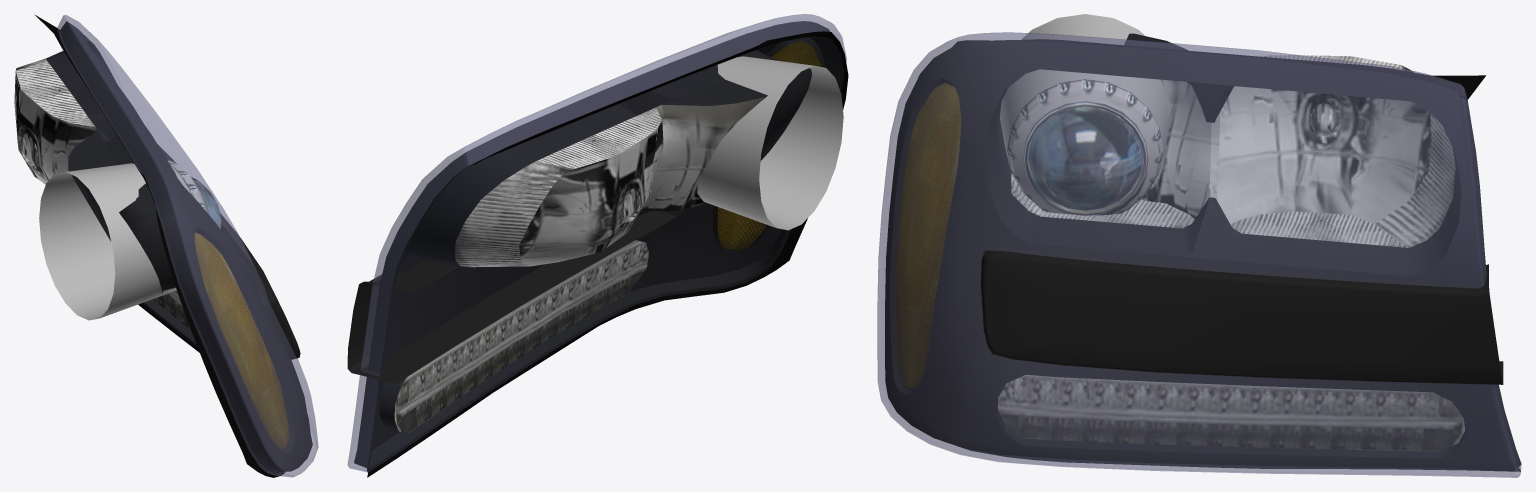
3 views of the same model, side by side, from view 1: azimuth 30°, elevation 25°; view 2: azimuth 150°, elevation 25°; view 3: azimuth 270°, elevation 25° (orthographic). The views are drawn at different scales.
Visible parts, largest first — view 1: U843_9A_061B_R_1_N_U843_9A_061B_R, U843_9A_061B_R_U843_9A_061B_R_3_DTaSI, U843_9A_061B_R_U843_9A_061B_R_4_D, U843_9A_061B_R_U843_9A_061B_R_2_D; view 2: U843_9A_061B_R_1_N_U843_9A_061B_R, U843_9A_061B_R_U843_9A_061B_R_3_DTaSI, U843_9A_061B_R_U843_9A_061B_R_2_D, U843_9A_061B_R_U843_9A_061B_R_4_D; view 3: U843_9A_061B_R_U843_9A_061B_R_3_DTaSI, U843_9A_061B_R_1_N_U843_9A_061B_R, U843_9A_061B_R_U843_9A_061B_R_2_D, U843_9A_061B_R_U843_9A_061B_R_4_D.
Boxes of the visible parts, bbox=[...] form: U843_9A_061B_R_1_N_U843_9A_061B_R: bbox=[14, 21, 312, 475]; U843_9A_061B_R_U843_9A_061B_R_3_DTaSI: bbox=[57, 15, 318, 477]; U843_9A_061B_R_U843_9A_061B_R_4_D: bbox=[34, 14, 284, 477]; U843_9A_061B_R_U843_9A_061B_R_2_D: bbox=[158, 145, 300, 359]; U843_9A_061B_R_1_N_U843_9A_061B_R: bbox=[354, 21, 844, 472]; U843_9A_061B_R_U843_9A_061B_R_3_DTaSI: bbox=[347, 14, 846, 472]; U843_9A_061B_R_U843_9A_061B_R_2_D: bbox=[347, 208, 686, 383]; U843_9A_061B_R_U843_9A_061B_R_4_D: bbox=[367, 31, 848, 477]; U843_9A_061B_R_U843_9A_061B_R_3_DTaSI: bbox=[877, 32, 1521, 477]; U843_9A_061B_R_1_N_U843_9A_061B_R: bbox=[885, 14, 1521, 471]; U843_9A_061B_R_U843_9A_061B_R_2_D: bbox=[980, 246, 1503, 384]; U843_9A_061B_R_U843_9A_061B_R_4_D: bbox=[952, 39, 1520, 471].
Bounding box in the file's own units: 20.47 × 25.22 × 40.9.
